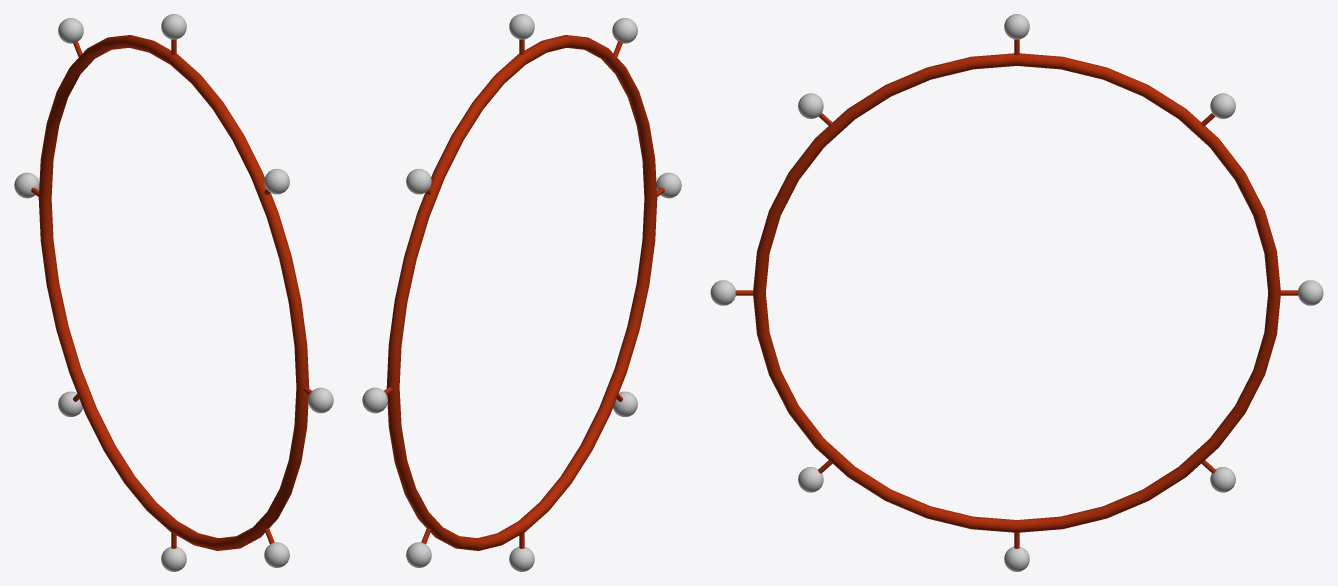
File: ring.fbx
3 renders of one model, left to right at view 1: azimuth 30°, elevation 25°; view 2: azimuth 150°, elevation 25°; view 3: azimuth 270°, elevation 25°, orthographic.
Parts seen in each view (by area): view 1: Ring, balls, sticks; view 2: Ring, balls, sticks; view 3: Ring, balls, sticks.
Part boxes in pixels (bbox=[...]): Ring: bbox=[38, 35, 309, 550]; balls: bbox=[14, 14, 333, 571]; sticks: bbox=[31, 39, 311, 548]; Ring: bbox=[386, 35, 657, 550]; balls: bbox=[362, 14, 681, 571]; sticks: bbox=[384, 39, 664, 548]; Ring: bbox=[753, 53, 1280, 532]; balls: bbox=[710, 14, 1323, 571]; sticks: bbox=[735, 39, 1298, 548].
Bounding box in the file's own units: 100 × 2380 × 2380.
